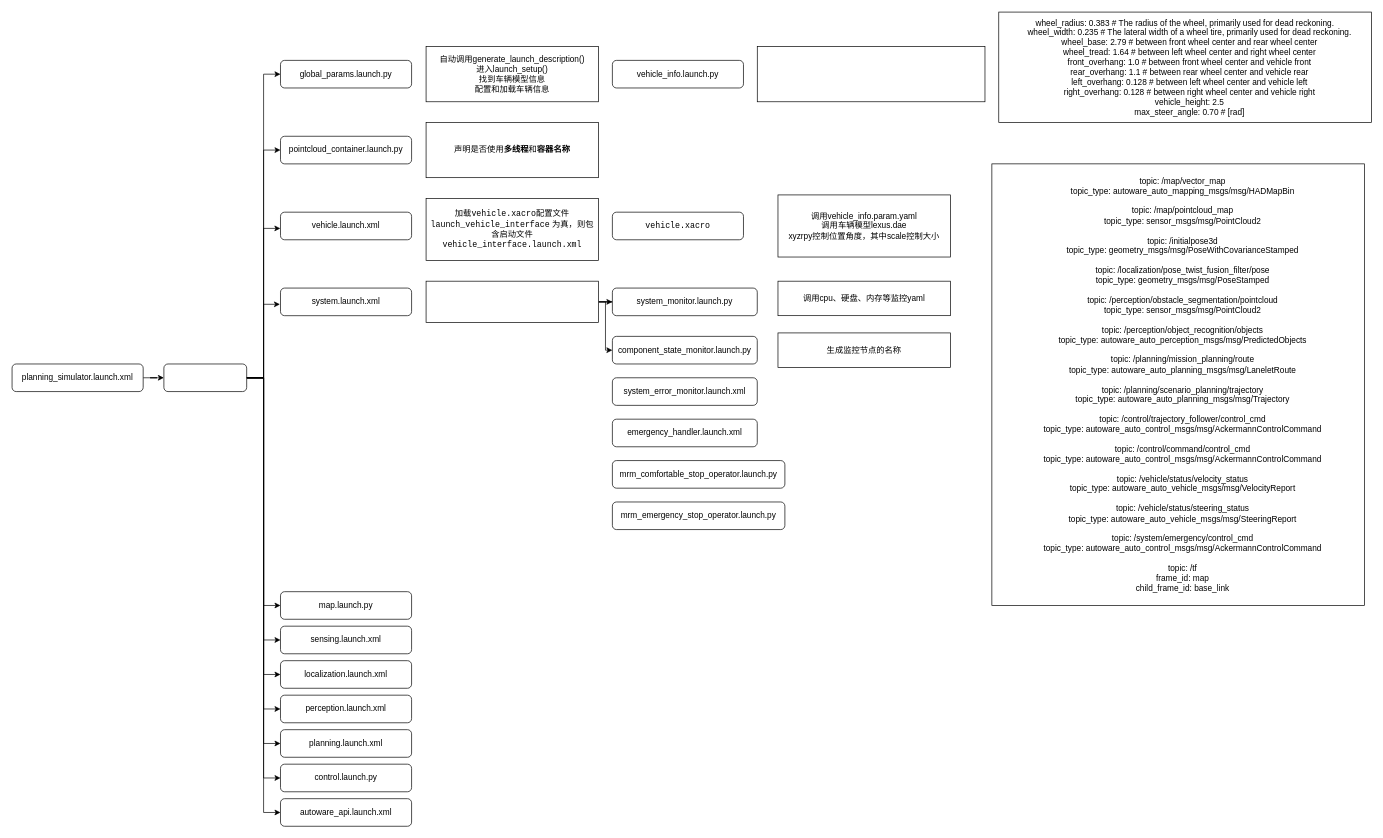
Some shapes in this 1383 by 838 pixel diagram are drawn without their labels. Here are the shapes that lost their labels. From the top down, the box of each, then its label:
(757, 46, 985, 102): 获取车辆配置文件的路径 打开和解析 vehicle_info.param.yaml文件 从中提取配置的 ROS 参数 设置从 YAML 文件中加载的参数。
(425, 280, 599, 323): 配置和启动多个与车辆系统监控和控制相关的 ROS 节点
(163, 363, 247, 392): autoware.launch.xml
